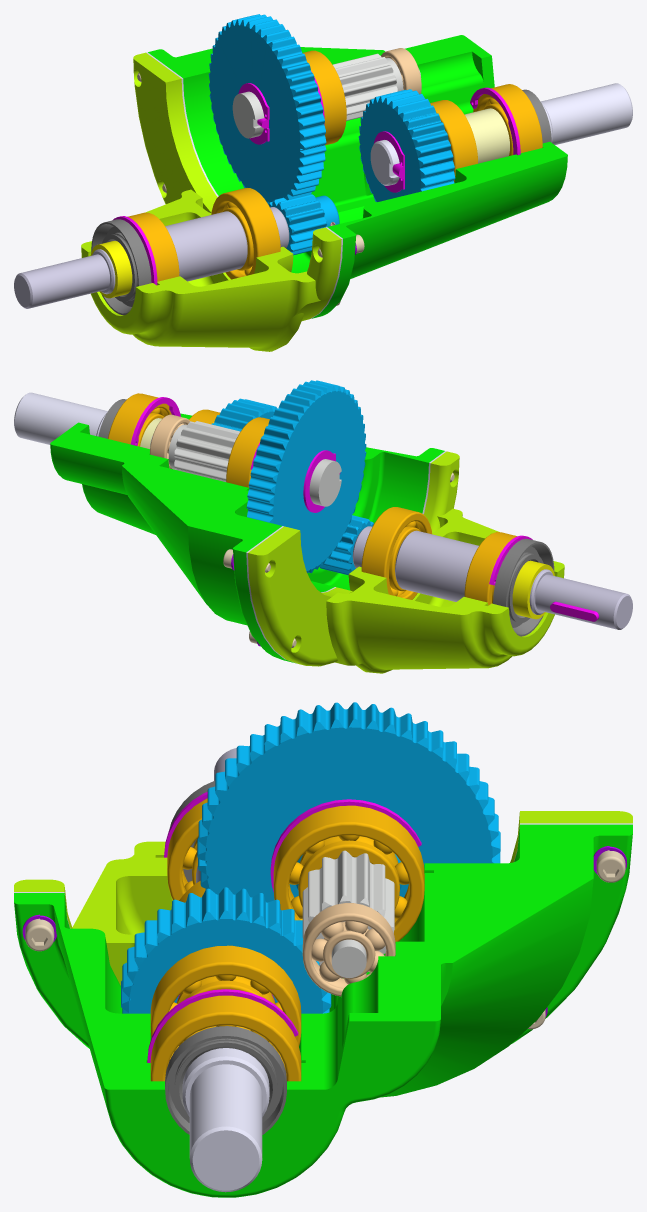
Rendered from Getriebe animiert.gltf.
3 renders of one model, top to bottom at view 1: azimuth 30°, elevation 25°; view 2: azimuth 150°, elevation 25°; view 3: azimuth 270°, elevation 25°, orthographic. The views are drawn at different scales.
Visible parts, largest first — view 1: 1 Gehaeuse, 2 Lagerdeckel, 7 Stirnrad, 5 Antriebswelle, 8 Stirnrad, Abtriebswelle, 4 Ritzelwelle, Rillenkugellager 6205.003, 6 Ritzel, 22RWDR 30 50, Rillenkugellager 6205, Rillenkugellager 6205.002 (+11 smaller); view 2: 2 Lagerdeckel, 1 Gehaeuse, 7 Stirnrad, 5 Antriebswelle, 4 Ritzelwelle, Rillenkugellager 6205.003, Abtriebswelle, 22RWDR 30 50, Rillenkugellager 6205.004, Rillenkugellager 6205, Rillenkugellager 6205.002, 6 Ritzel (+7 smaller); view 3: 1 Gehaeuse, 7 Stirnrad, 8 Stirnrad, Abtriebswelle, Rillenkugellager 6205.002, 2 Lagerdeckel, Rillenkugellager 6205.001, 4 Ritzelwelle, Rillenkugellager 6205, 13 Rillenkugellager 6201 12mm, 21 RWDR 30, Rillenkugellager 6205.004 (+4 smaller).
Boxes of the visible parts, box(x1,y1,x2,y2) form: 1 Gehaeuse: box(148, 35, 567, 318); 2 Lagerdeckel: box(81, 52, 341, 351); 7 Stirnrad: box(208, 14, 326, 204); 5 Antriebswelle: box(14, 207, 289, 308); 8 Stirnrad: box(358, 89, 455, 201); Abtriebswelle: box(370, 83, 632, 185); 4 Ritzelwelle: box(232, 53, 421, 138); Rillenkugellager 6205.003: box(211, 188, 280, 279); 6 Ritzel: box(268, 194, 339, 255); 22RWDR 30 50: box(91, 219, 151, 315); Rillenkugellager 6205: box(473, 84, 542, 155); Rillenkugellager 6205.002: box(303, 50, 346, 145); 2 Lagerdeckel: box(248, 451, 564, 673); 1 Gehaeuse: box(50, 413, 444, 663); 7 Stirnrad: box(246, 380, 366, 573); 5 Antriebswelle: box(352, 526, 632, 629); 4 Ritzelwelle: box(150, 421, 341, 506); Rillenkugellager 6205.003: box(361, 507, 431, 599); Abtriebswelle: box(14, 392, 107, 444); 22RWDR 30 50: box(493, 538, 554, 636); Rillenkugellager 6205.004: box(464, 532, 516, 605); Rillenkugellager 6205: box(108, 393, 171, 446); Rillenkugellager 6205.002: box(226, 417, 269, 487); 6 Ritzel: box(319, 515, 373, 575); 1 Gehaeuse: box(14, 824, 632, 1197); 7 Stirnrad: box(197, 702, 500, 902); 8 Stirnrad: box(121, 887, 331, 1013); Abtriebswelle: box(182, 1048, 269, 1192); Rillenkugellager 6205.002: box(273, 805, 424, 942); 2 Lagerdeckel: box(14, 811, 632, 985); Rillenkugellager 6205.001: box(150, 945, 301, 1051); 4 Ritzelwelle: box(302, 850, 394, 978); Rillenkugellager 6205: box(150, 995, 301, 1081); 13 Rillenkugellager 6201 12mm: box(302, 903, 395, 996); 21 RWDR 30: box(165, 1026, 286, 1134); Rillenkugellager 6205.004: box(167, 798, 207, 900).
Size of the model in its own units: 0.3746 by 0.1695 by 0.2133.
